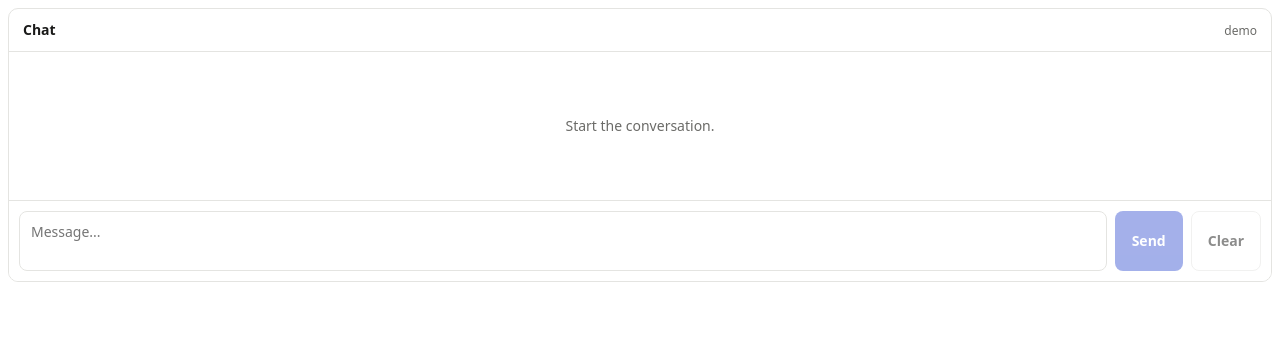
Test case: ChatPanel › surfaces a module error from the stream
Step 1. Type "hi" into the text box labelled "Message" → (563, 241), box [19,211,1107,271]
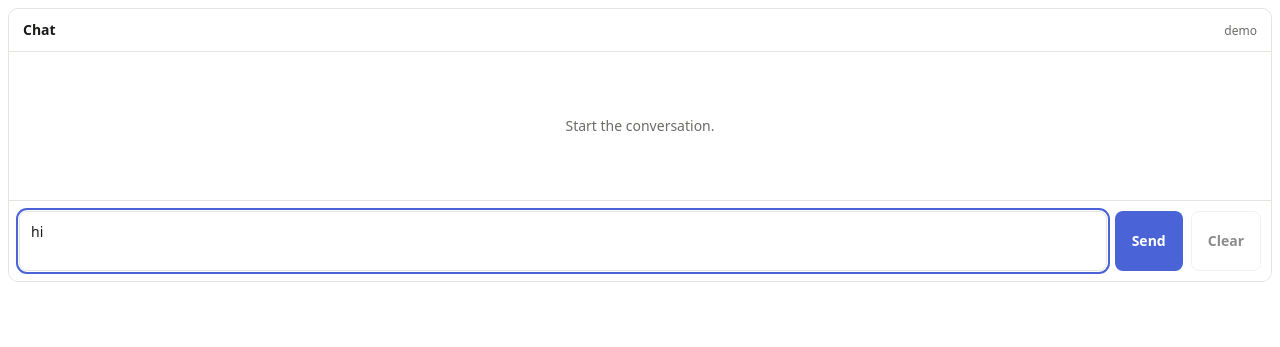
Step 2. Click the button "Send" → (1149, 241), box [1115,211,1183,271]
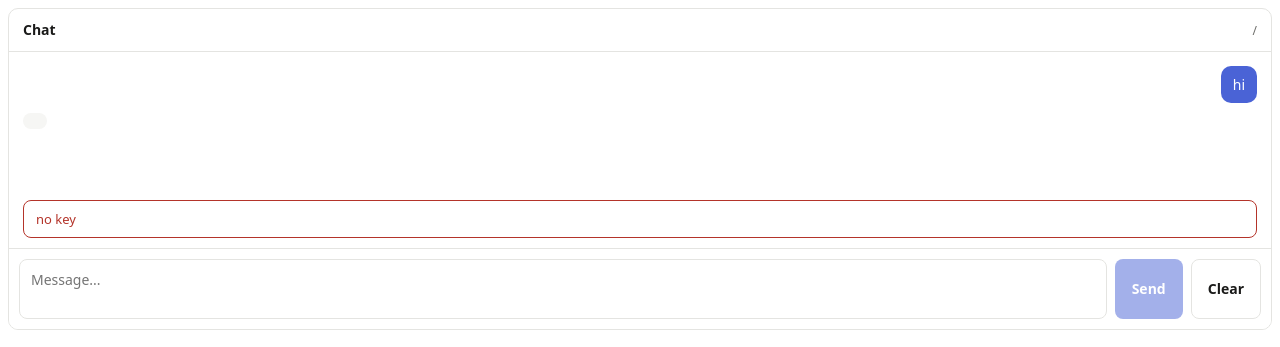
Expected: the message reads "no key", [36,210,76,228]
